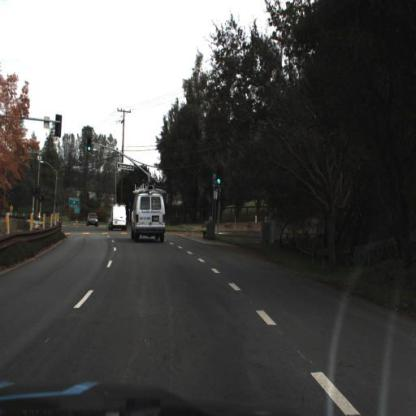car: (131, 190, 166, 244), (109, 202, 128, 233), (86, 209, 100, 230)
trafficLight-Green: (84, 132, 96, 155), (213, 176, 225, 192), (216, 168, 225, 187)
